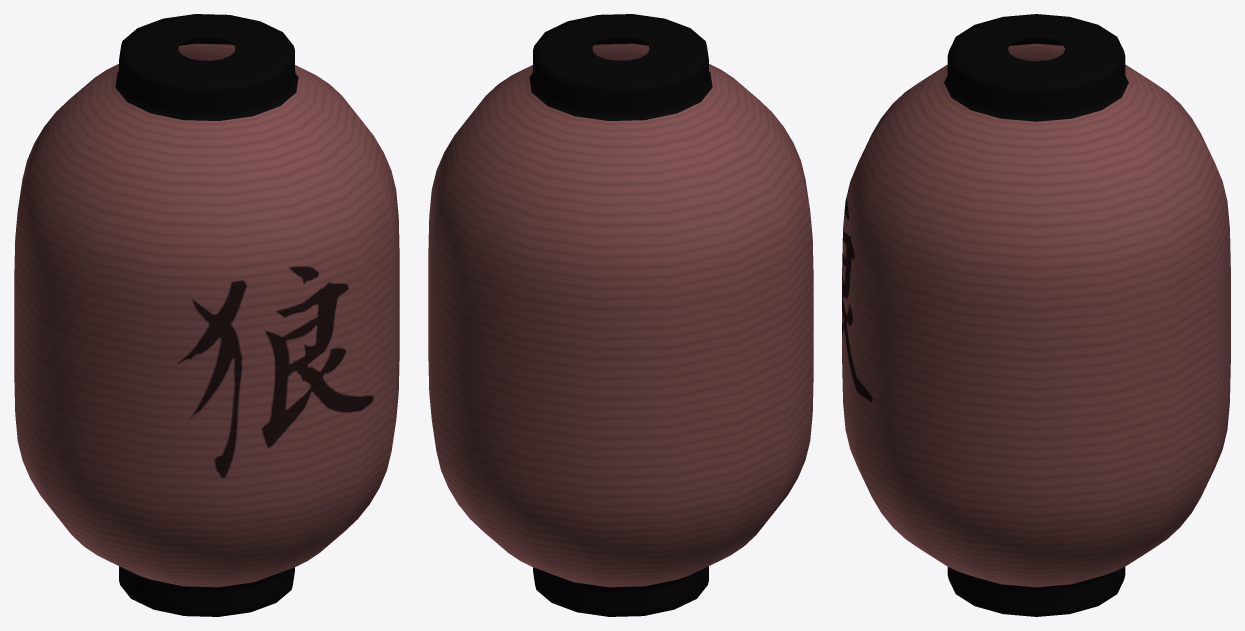
File: JapaneseLamp.obj
3 views of the same model, side by side, from view 1: azimuth 30°, elevation 25°; view 2: azimuth 150°, elevation 25°; view 3: azimuth 270°, elevation 25° (orthographic).
Parts seen in each view (by area): view 1: Torii.001_Cube.002; view 2: Torii.001_Cube.002; view 3: Torii.001_Cube.002.
Part boxes in pixels (bbox=[...]): Torii.001_Cube.002: bbox=[14, 14, 399, 616]; Torii.001_Cube.002: bbox=[428, 14, 813, 616]; Torii.001_Cube.002: bbox=[842, 14, 1230, 616].
Size of the model in its own units: 1.23 by 1.85 by 1.23.
Materials: 1 (1 with a texture image).
